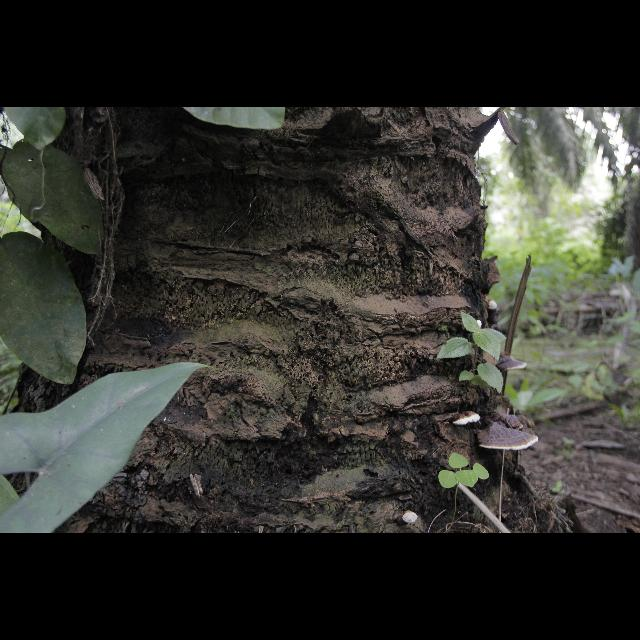ganoderma: (478, 424, 540, 452), (487, 417, 525, 432), (496, 356, 528, 372), (453, 412, 481, 427)
primordium: (403, 512, 419, 525), (488, 300, 499, 311), (477, 321, 483, 329)
